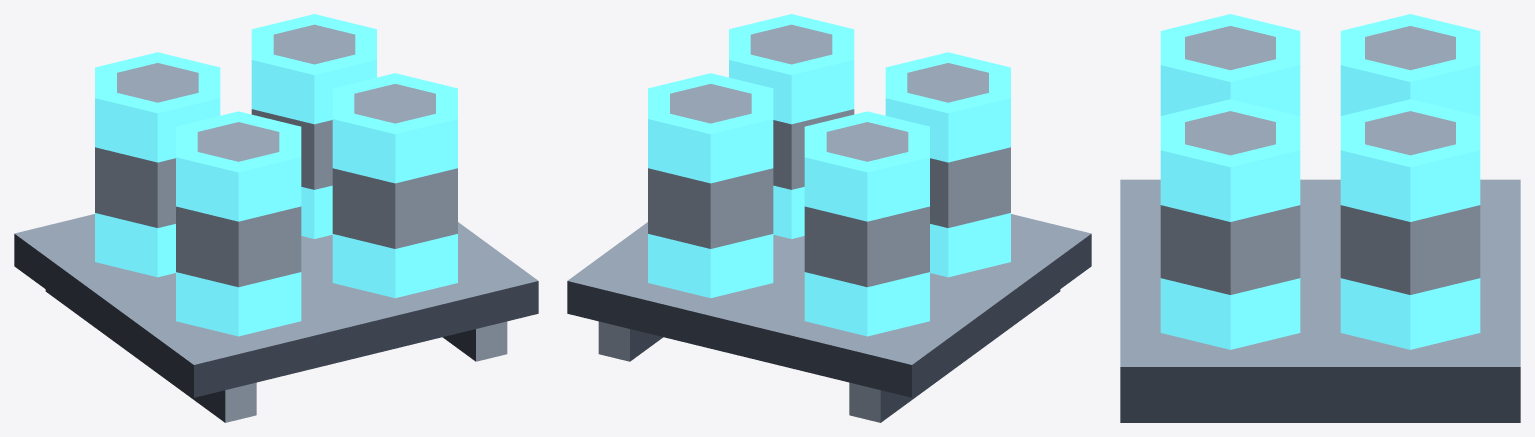
File: barrels.glb
3 views of the same model, side by side, from view 1: azimuth 30°, elevation 25°; view 2: azimuth 150°, elevation 25°; view 3: azimuth 270°, elevation 25° (orthographic). The views are drawn at different scales.
Visible parts, largest first — view 1: barrels, barrel.002, barrel, barrel.001, barrel.003; view 2: barrels, barrel.003, barrel.001, barrel, barrel.002; view 3: barrels, barrel.002, barrel.003, barrel, barrel.001.
Boxes of the visible parts, <box> form: barrels: <box>14,214,538,422</box>; barrel.002: <box>332,73,457,298</box>; barrel: <box>176,111,301,336</box>; barrel.001: <box>95,52,220,277</box>; barrel.003: <box>251,14,376,238</box>; barrels: <box>567,214,1091,422</box>; barrel.003: <box>648,73,773,298</box>; barrel.001: <box>804,111,929,336</box>; barrel: <box>885,52,1010,277</box>; barrel.002: <box>729,14,854,238</box>; barrels: <box>1120,179,1520,422</box>; barrel.002: <box>1160,99,1300,349</box>; barrel.003: <box>1340,99,1480,349</box>; barrel: <box>1160,14,1300,115</box>; barrel.001: <box>1340,14,1480,115</box>.
Bounding box in the file's own units: 0.55 × 0.35 × 0.4964.
